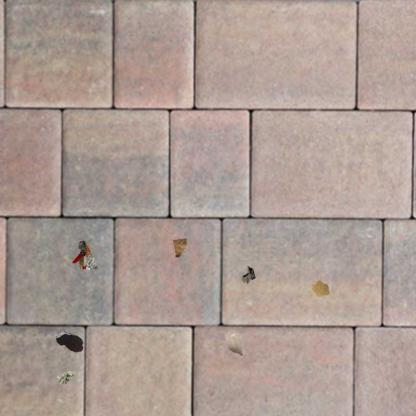dirty: (70, 238, 101, 272), (223, 331, 246, 358), (239, 263, 258, 289), (56, 370, 77, 387), (172, 238, 186, 258)
liquid: (54, 330, 84, 354), (308, 279, 331, 298)
